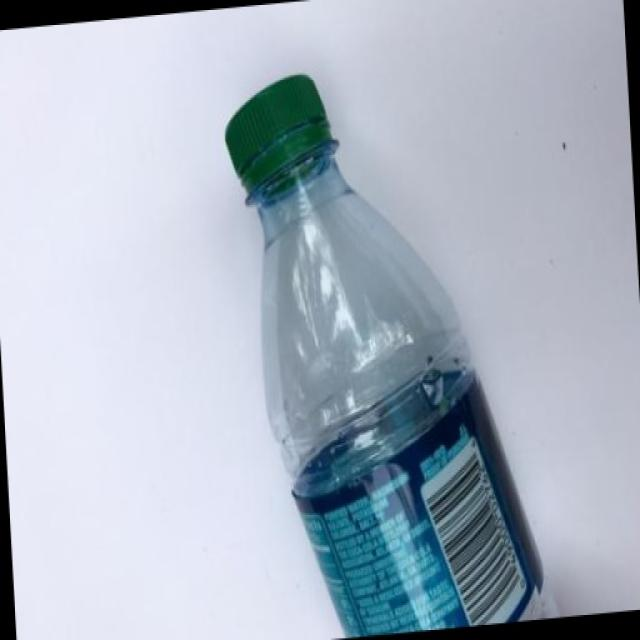plastico: (219, 56, 594, 635)
